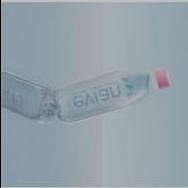bottle: (48, 67, 174, 123)
